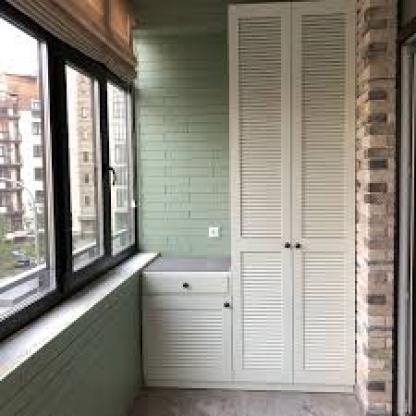Window: (0, 19, 53, 318), (67, 65, 103, 268), (110, 80, 138, 251)
